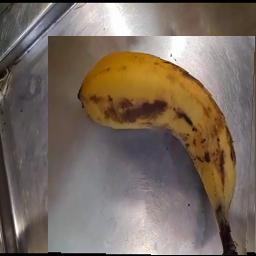Banana Semirotten: (48, 36, 256, 255)
